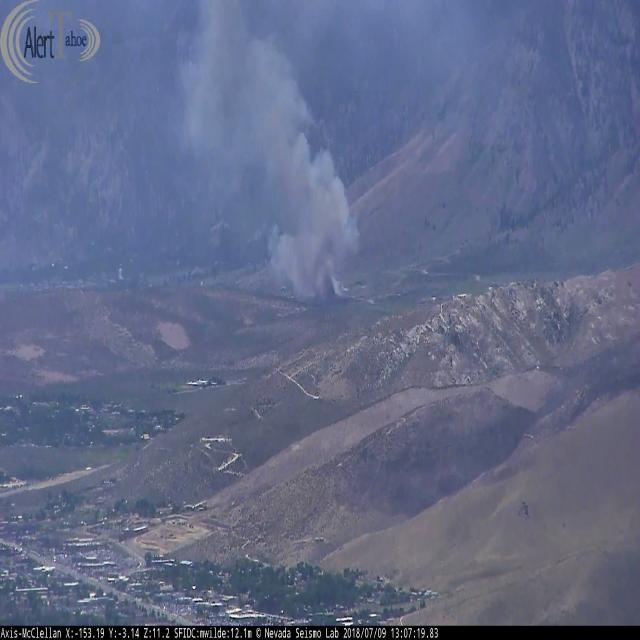smoke: (176, 0, 364, 304)
